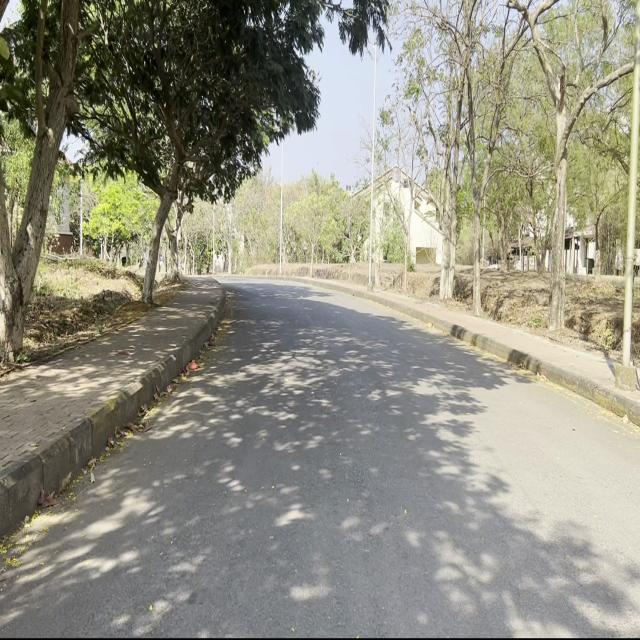Road: (3, 276, 637, 631)
